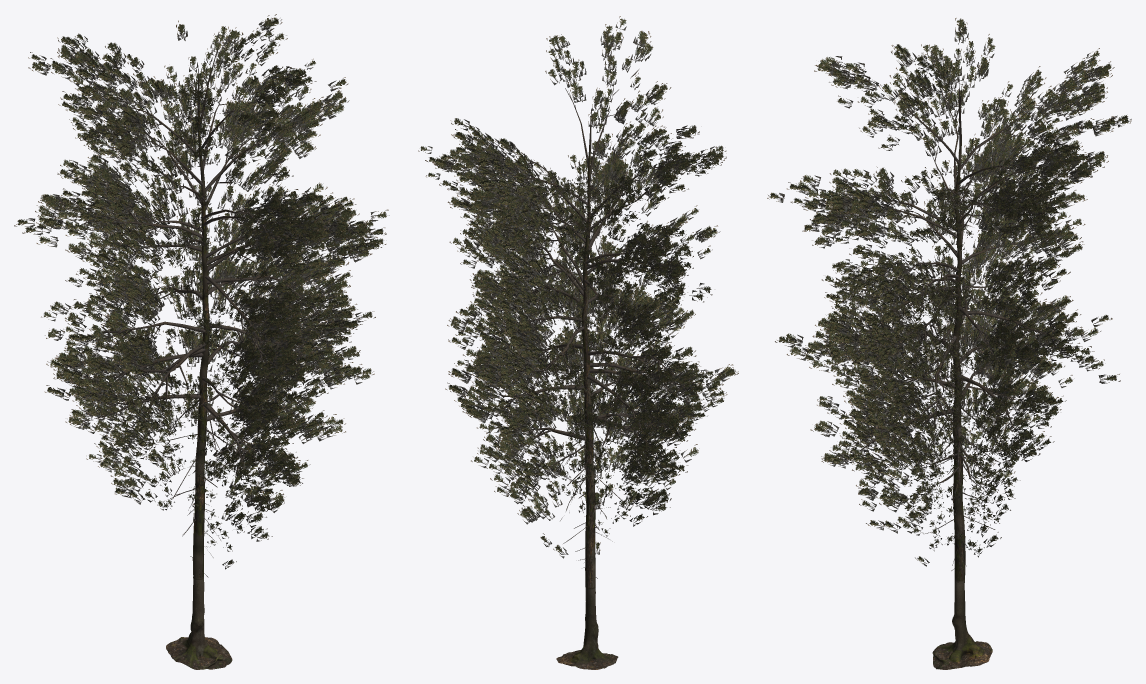
File: ph-pine-b.glb
3 renders of one model, left to right at view 1: azimuth 30°, elevation 25°; view 2: azimuth 150°, elevation 25°; view 3: azimuth 270°, elevation 25°, orthographic. The views are drawn at different scales.
Visible parts, largest first — view 1: ph-pine-b; view 2: ph-pine-b; view 3: ph-pine-b.
Part boxes in pixels (left/top/right/bottom): ph-pine-b: left=14, top=14, right=389, bottom=669; ph-pine-b: left=418, top=16, right=738, bottom=669; ph-pine-b: left=767, top=18, right=1131, bottom=669.
Bounding box in the file's own units: 7.28 × 14.55 × 7.6.
Materials: 4 (4 with a texture image).
